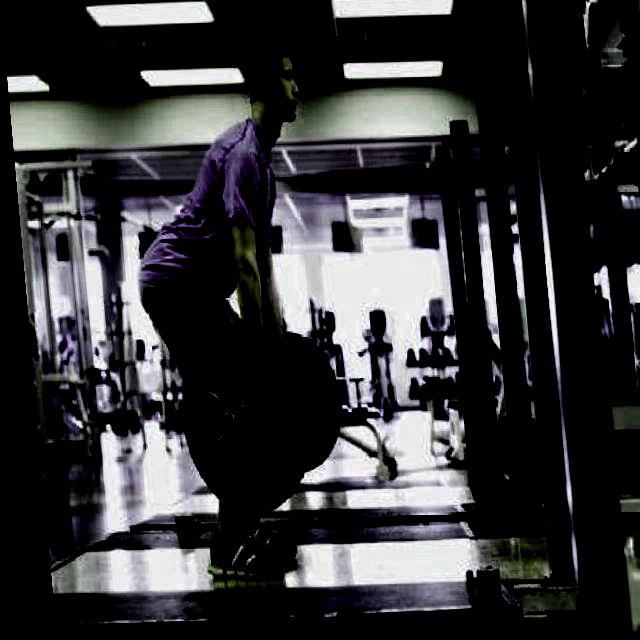barbell: (166, 316, 317, 522)
